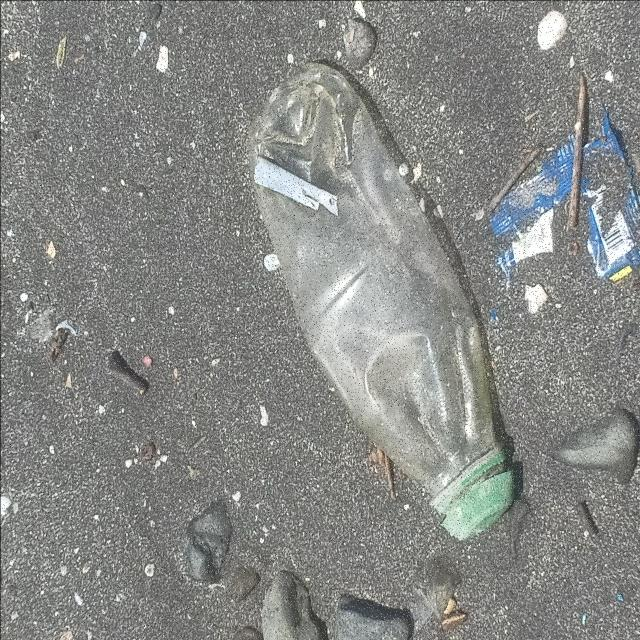plastic_waste: (247, 60, 516, 543), (488, 101, 640, 327)
